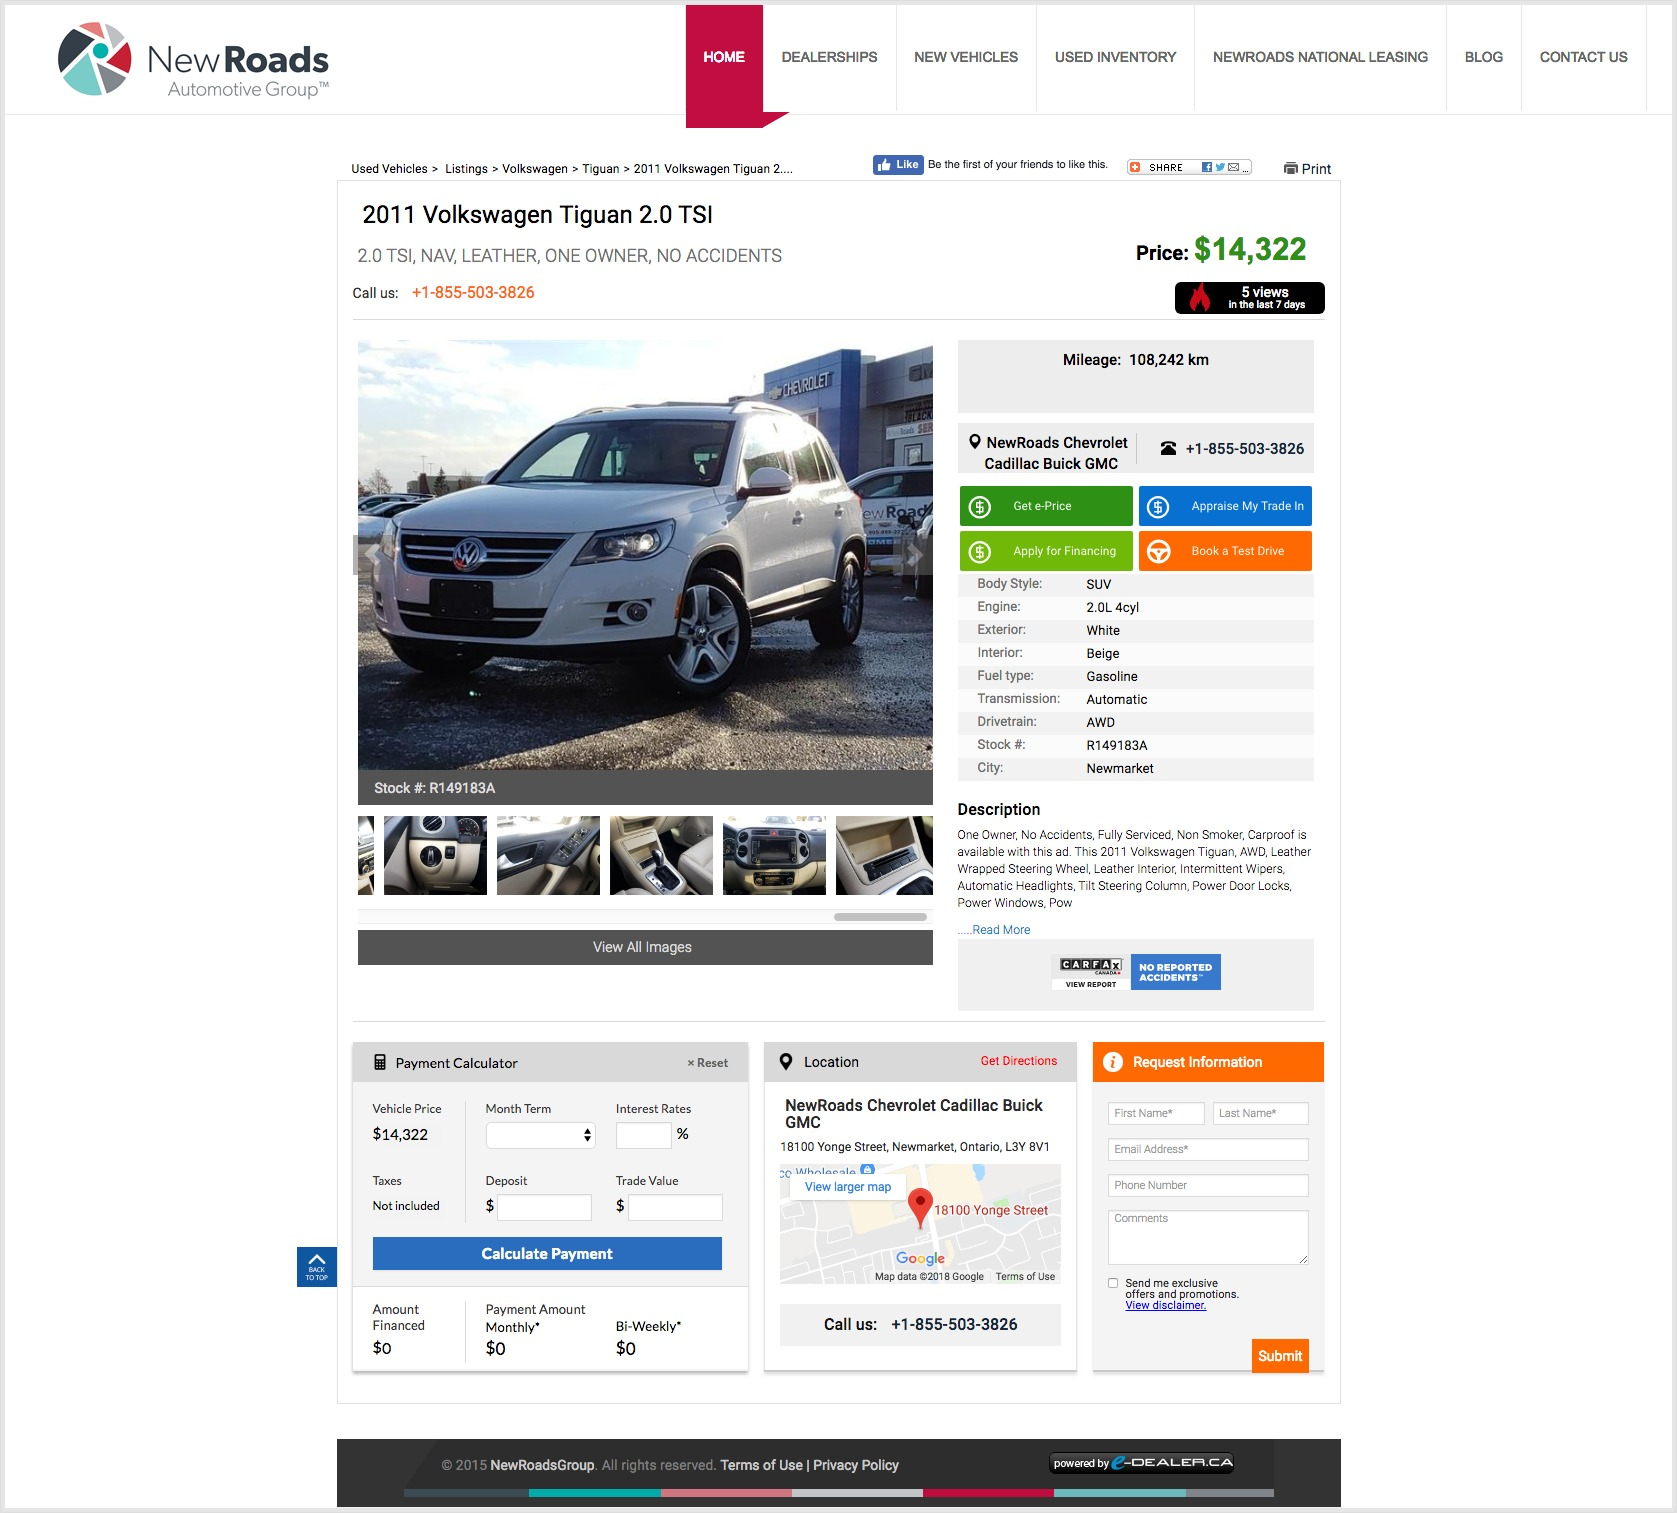car: (906, 543, 925, 568)
